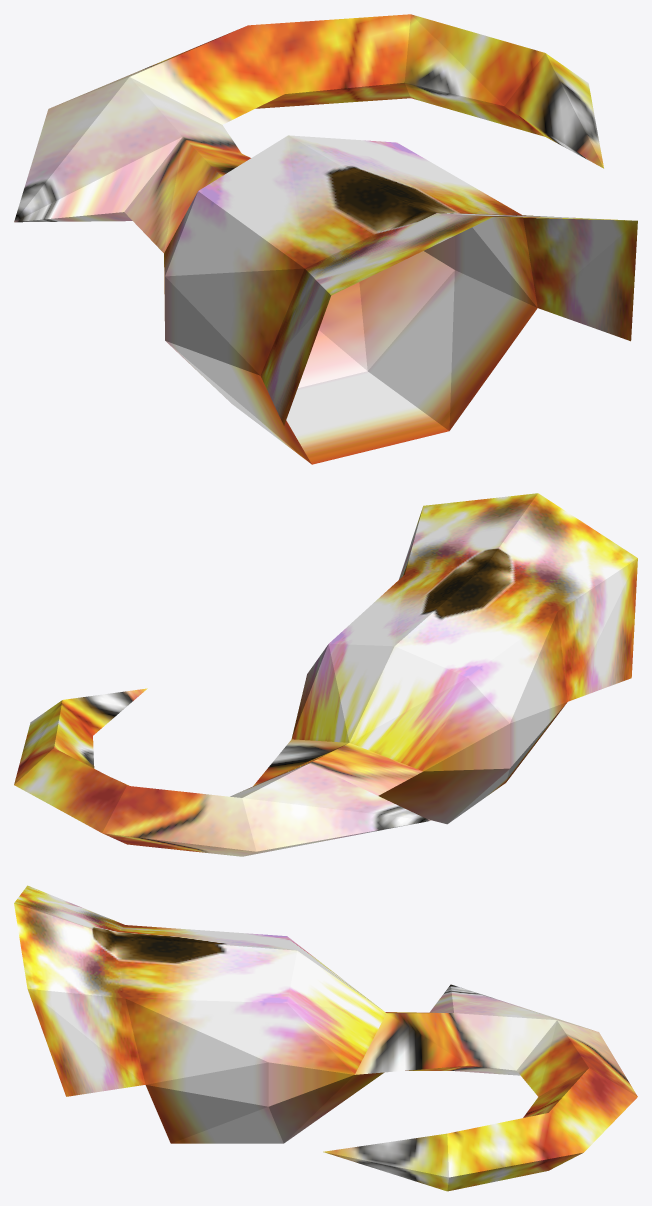
Rendered from twinblade103_3.obj.
The picture shows the model from 3 angles, top to bottom: view 1: azimuth 30°, elevation 25°; view 2: azimuth 150°, elevation 25°; view 3: azimuth 270°, elevation 25°; orthographic projection. The views are drawn at different scales.
Parts seen in each view (by area): view 1: MDL_cwdhkn03_3r; view 2: MDL_cwdhkn03_3r; view 3: MDL_cwdhkn03_3r.
Boxes of the visible parts, x1,y1,x2,y2 form: MDL_cwdhkn03_3r: (14, 14, 637, 464); MDL_cwdhkn03_3r: (14, 493, 637, 856); MDL_cwdhkn03_3r: (14, 885, 637, 1191).
Bounding box in the file's own units: 0.3438 × 0.1774 × 0.4625.
